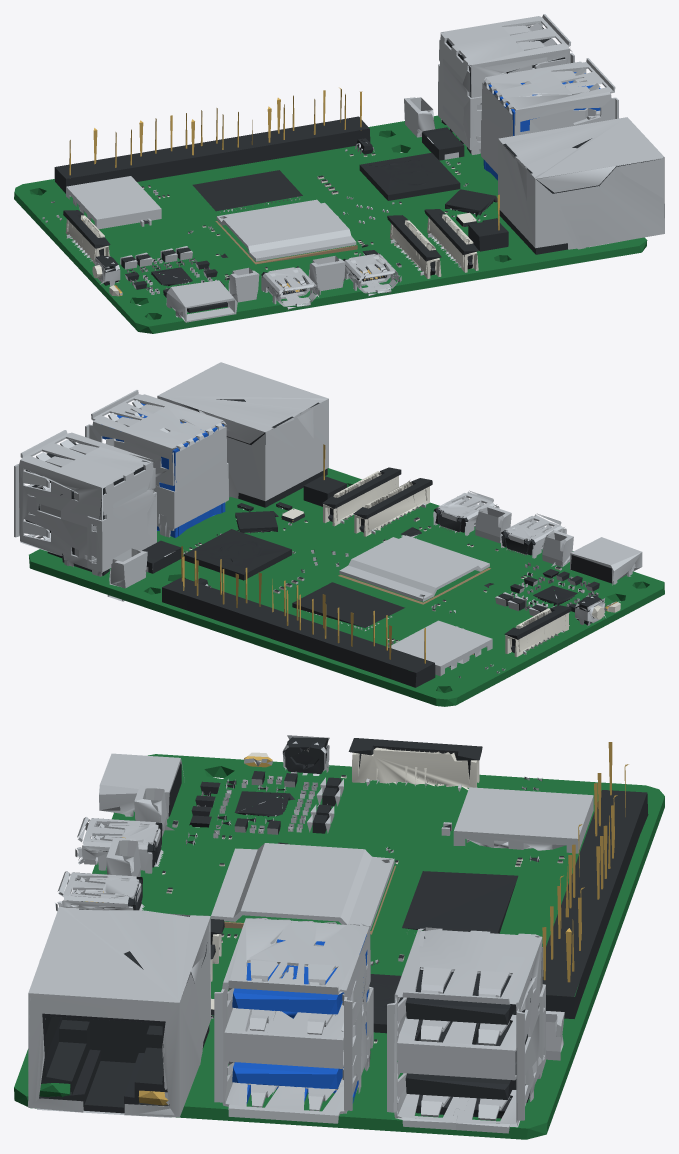
Rendered from pi-source.glb.
3 views of the same model, one above another, from view 1: azimuth 30°, elevation 25°; view 2: azimuth 150°, elevation 25°; view 3: azimuth 270°, elevation 25° (orthographic). The views are drawn at different scales.
Visible parts, largest first — view 1: RPI5_PresentationRoot; view 2: RPI5_PresentationRoot; view 3: RPI5_PresentationRoot.
Boxes of the visible parts, x1,y1,x2,y2 form: RPI5_PresentationRoot: [14, 14, 664, 333]; RPI5_PresentationRoot: [14, 362, 664, 706]; RPI5_PresentationRoot: [14, 735, 664, 1139].
Size of the model in its own units: 0.1058 by 0.0214 by 0.0754.
